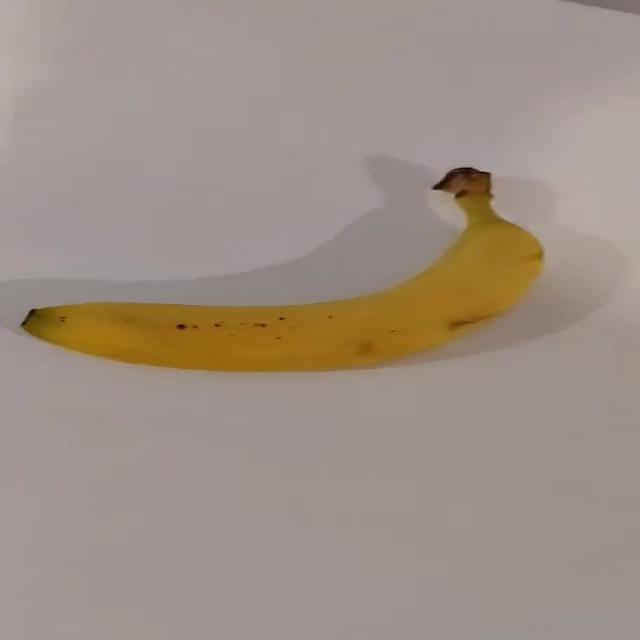Banana: (20, 165, 544, 373)
